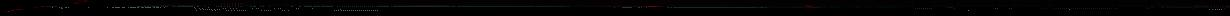Blue cone: (32, 7, 39, 8), (16, 9, 21, 10)
Yellow cone: (221, 3, 245, 6), (804, 5, 813, 8)
